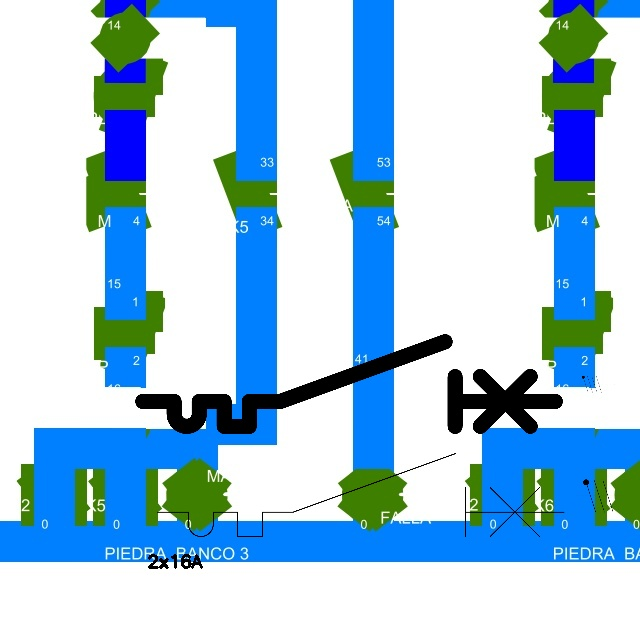interruptor_termomagnetico: (132, 331, 565, 437), (147, 443, 574, 547)
